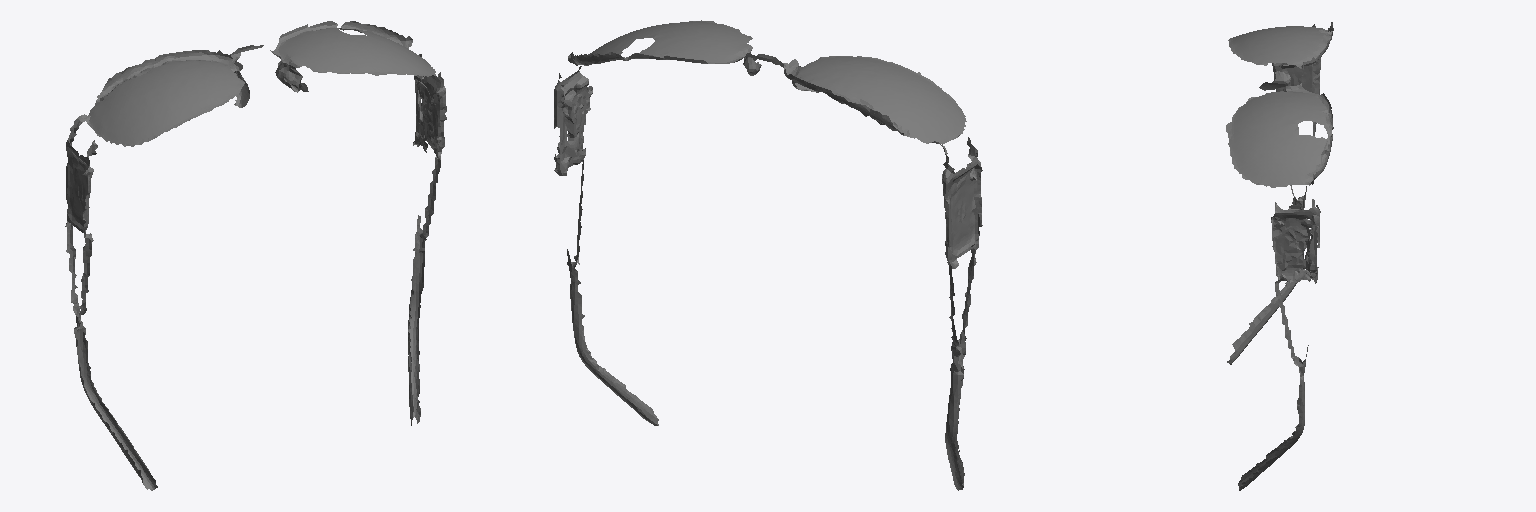
The robot description file, URDF, robot "object":
<?xml version="1.0"?>
<robot name="object">
  <link name="object">
    <visual>
      <origin xyz="0 0 0"/>
      <geometry>
        <mesh
          filename="../../mesh/oakink_virtual/eyeglasses25.stl" />
      </geometry>
      <material name="mat">
        <color rgba="0.5 0.5 0.5 1"/>
      </material>
    </visual>

    <collision>
      <origin xyz="0 0 0"/>
      <geometry>
        <mesh
          filename="../../mesh/oakink_virtual/eyeglasses25.stl" />
      </geometry>
    </collision>
  </link>
</robot>

--- Facts derived from the render (not from the file) ---
3 views of the same robot in one strip: view 1: azimuth 30°, elevation 25°; view 2: azimuth 150°, elevation 25°; view 3: azimuth 270°, elevation 25° (orthographic).
Robot: object — 1 links, 0 joints (none); root link object; default pose: every joint at zero.
Links seen in each view (by area): view 1: object; view 2: object; view 3: object.
Boxes of the visible links, x1,y1,x2,y2 form: object: (65, 21, 446, 490); object: (554, 20, 982, 490); object: (1226, 22, 1333, 490).
Size in the robot's own frame: 0.1428 by 0.039 by 0.146 metres.
1 mesh visuals loaded from 1 distinct referenced files (1 binary STL).